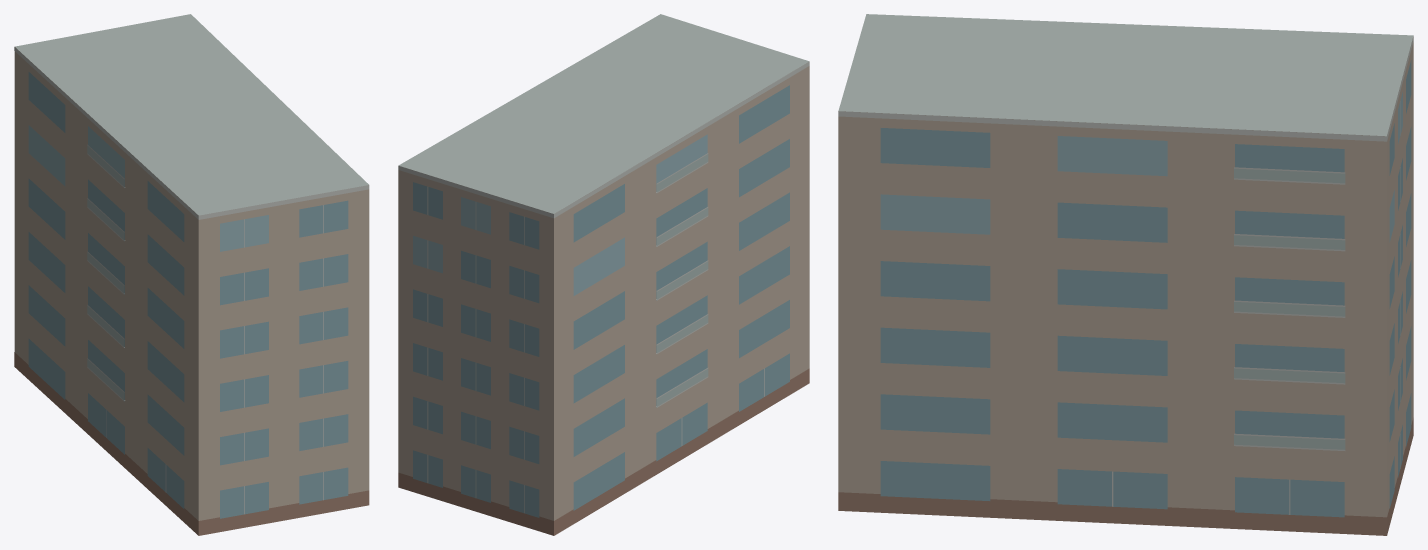
Rendered from survey-upis-33038272.glb.
The picture shows the model from 3 angles, left to right: view 1: azimuth 30°, elevation 25°; view 2: azimuth 150°, elevation 25°; view 3: azimuth 270°, elevation 25°; orthographic projection. The views are drawn at different scales.
Visible parts, largest first — view 1: survey-upis-33038272.tmp; view 2: survey-upis-33038272.tmp; view 3: survey-upis-33038272.tmp.
Part boxes in pixels (<box>): survey-upis-33038272.tmp: <box>14,14,369,535</box>; survey-upis-33038272.tmp: <box>398,14,809,535</box>; survey-upis-33038272.tmp: <box>838,14,1413,535</box>.
Size of the model in its own units: 11.88 by 18.1 by 23.62.
